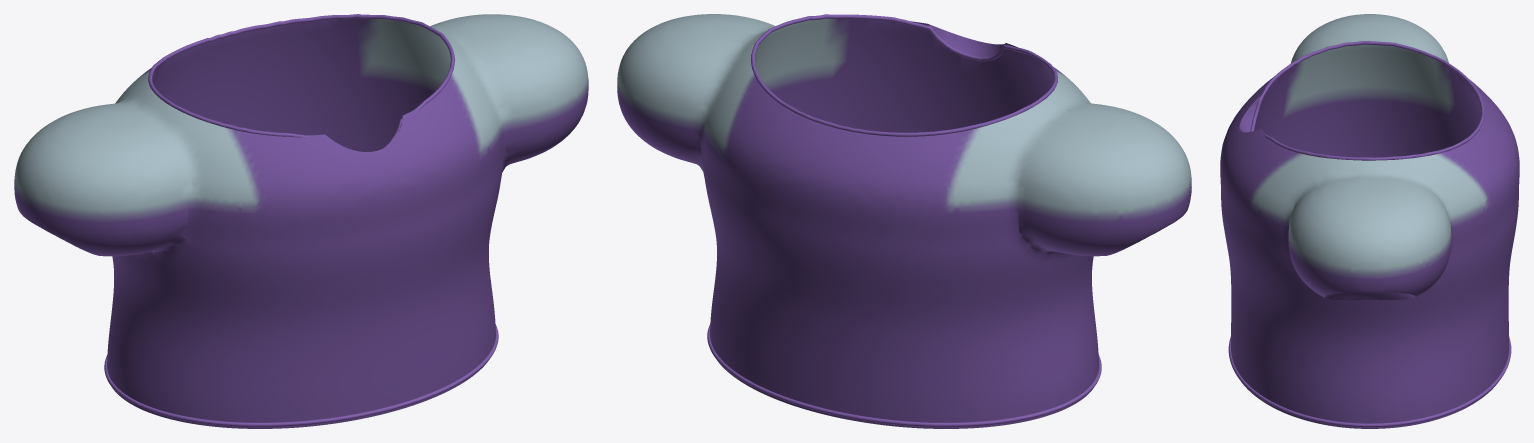
The model's file is Feminine-jersey-top.glb.
3 views of the same model, side by side, from view 1: azimuth 30°, elevation 25°; view 2: azimuth 150°, elevation 25°; view 3: azimuth 270°, elevation 25° (orthographic). The views are drawn at different scales.
Visible parts, largest first — view 1: Clothing / jersey, jersey neck binding export, jersey hem border export; view 2: Clothing / jersey, jersey neck binding export, jersey hem border export; view 3: Clothing / jersey, jersey neck binding export, jersey hem border export.
Boxes of the visible parts, x1,y1,x2,y2 form: Clothing / jersey: (14,14,588,428); jersey neck binding export: (148,14,455,148); jersey hem border export: (104,324,498,426); Clothing / jersey: (617,14,1191,428); jersey neck binding export: (751,14,1057,136); jersey hem border export: (707,324,1101,426); Clothing / jersey: (1220,14,1519,428); jersey neck binding export: (1250,41,1484,160); jersey hem border export: (1228,336,1511,427).
Size of the model in its own units: 1.06 by 0.5346 by 0.5707.
